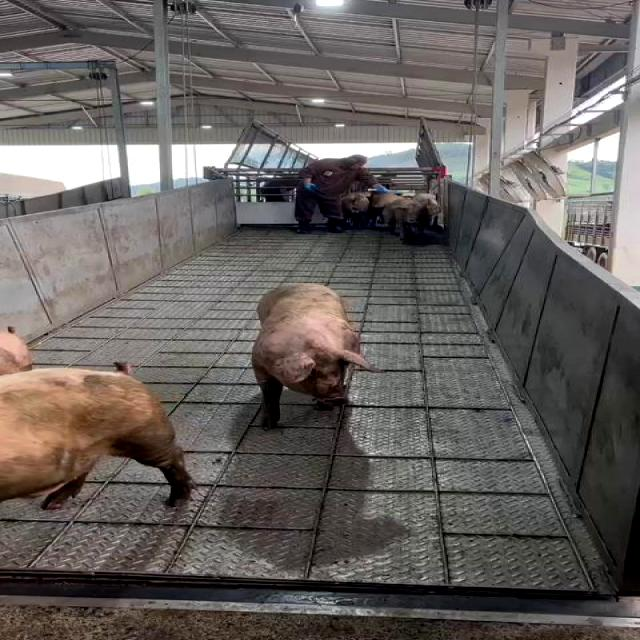pig: (0, 369, 192, 508), (252, 284, 380, 428)
